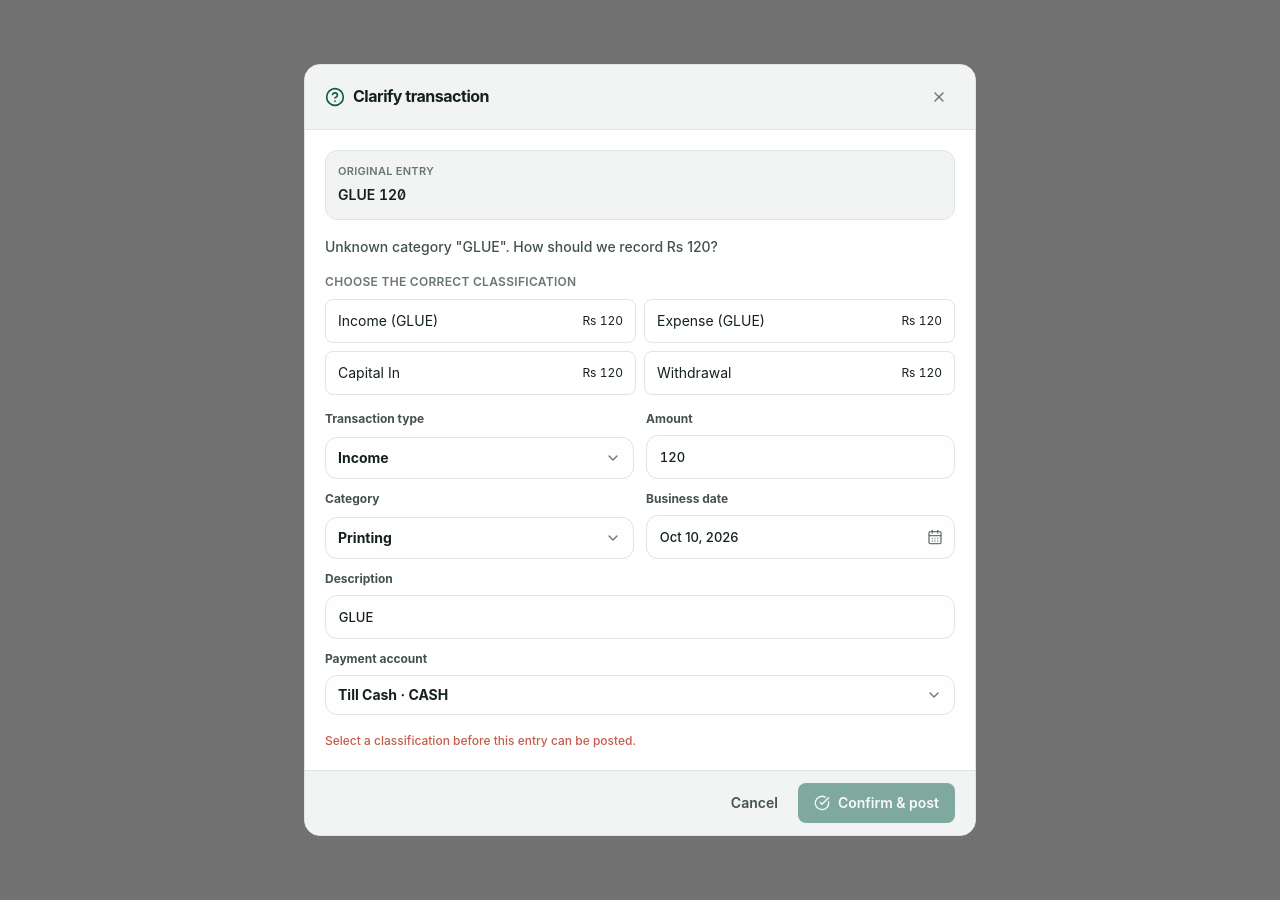
Test: Unified transaction entry review › blocks an ambiguous category until a classification and valid category are selected
Expected: the button "Confirm & post" is disabled, [798,783,955,823]
Click the button "Income (GLUE) Rs 120" at (388,321), box [325,299,636,343]
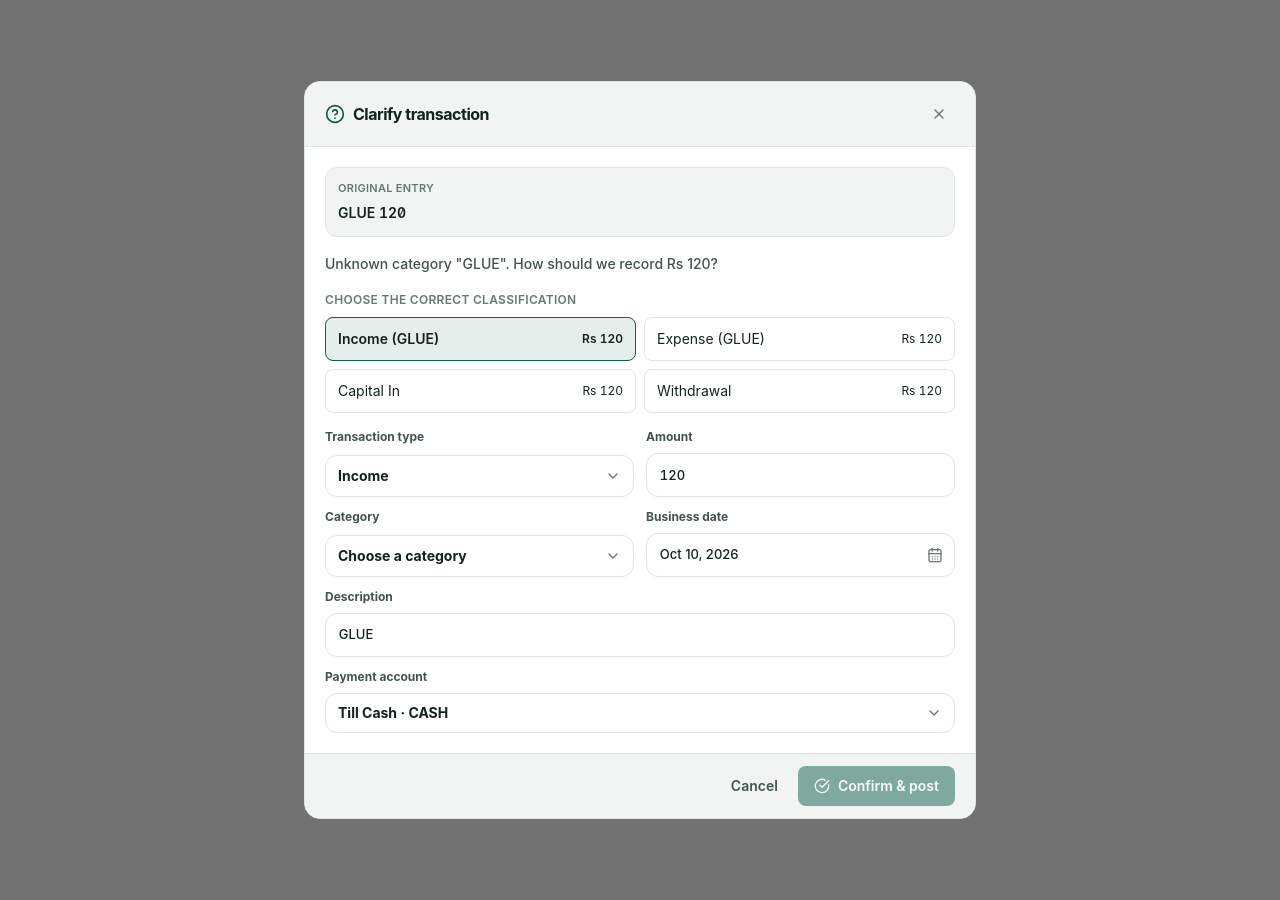
Expected: the button "Confirm & post" is disabled, [798,766,955,806]
Click the dropdown labelled "category" at (402,555), box [325,535,634,577]
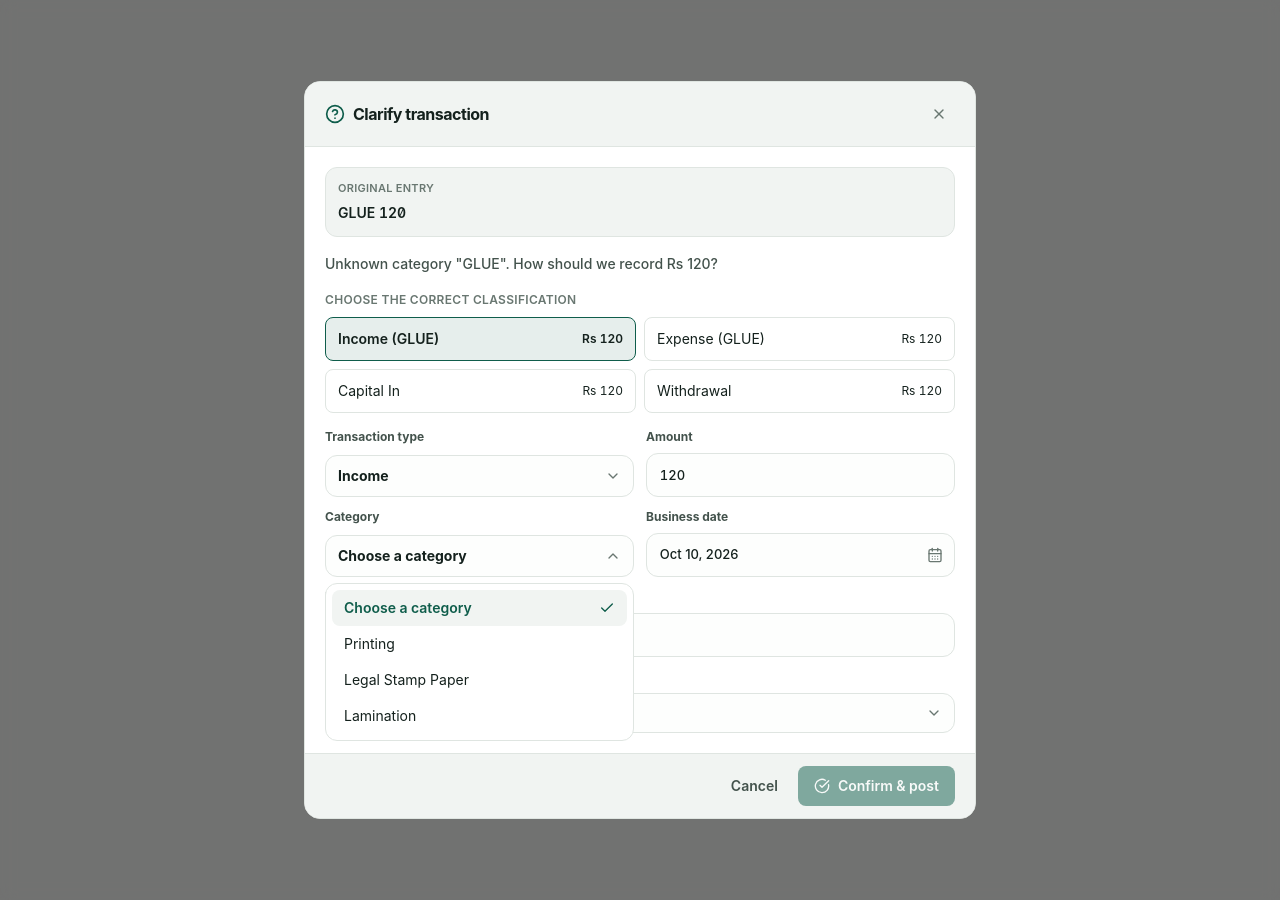
Click the option "Printing" at (369,643), box [332,626,627,662]
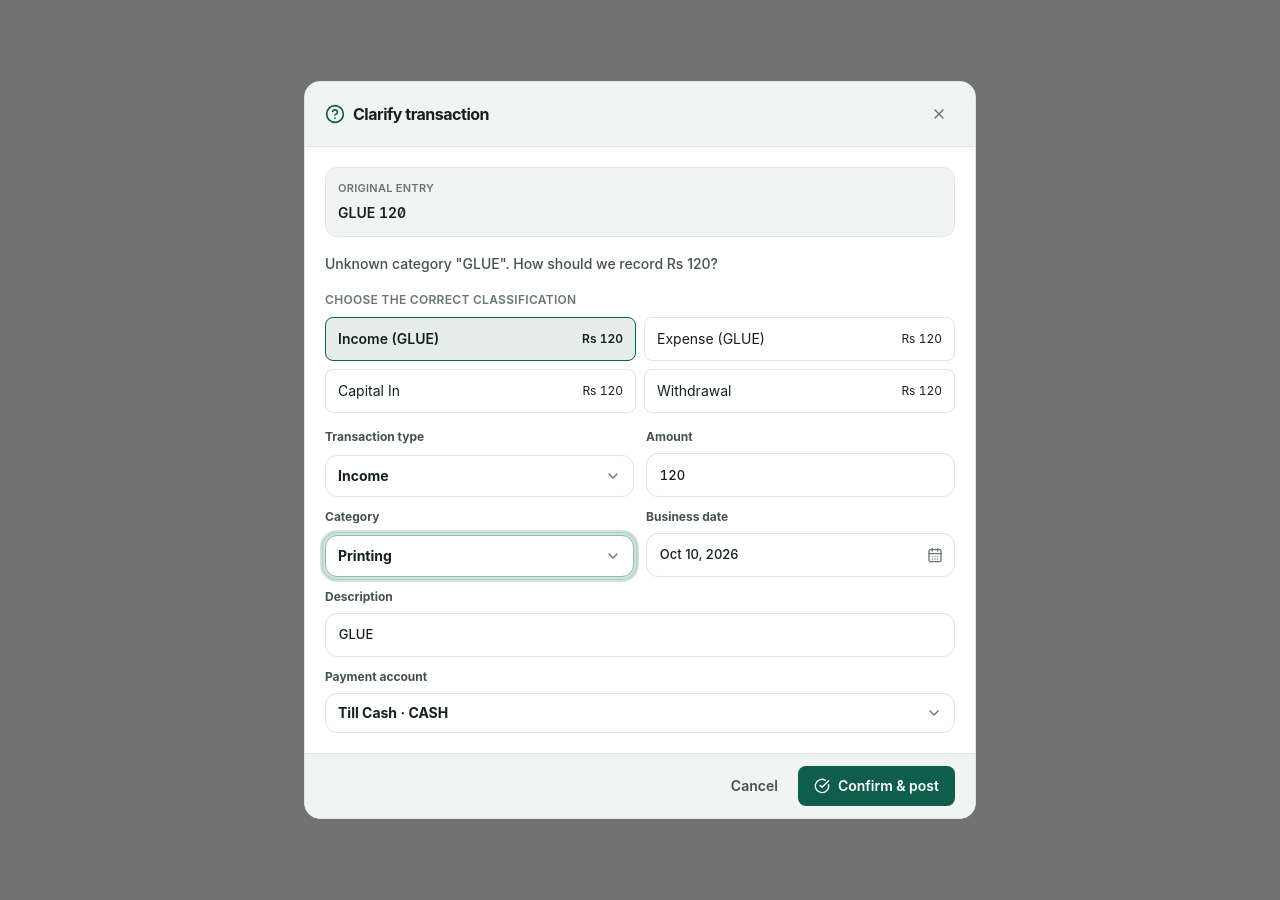
Expected: the button "Confirm & post" is enabled, [798,766,955,806]
